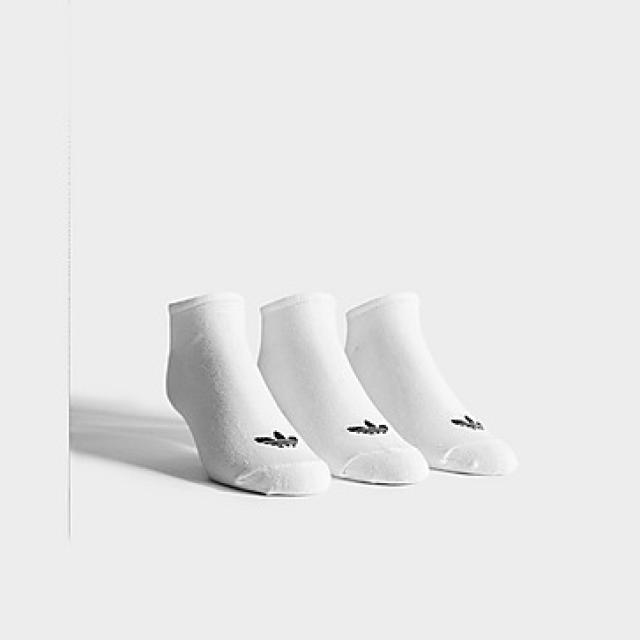sock: (164, 289, 331, 496), (256, 289, 428, 485), (344, 289, 516, 476)
